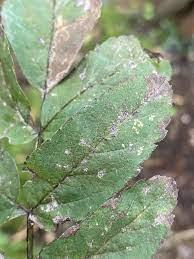powdery_mildew: (17, 25, 180, 248)
